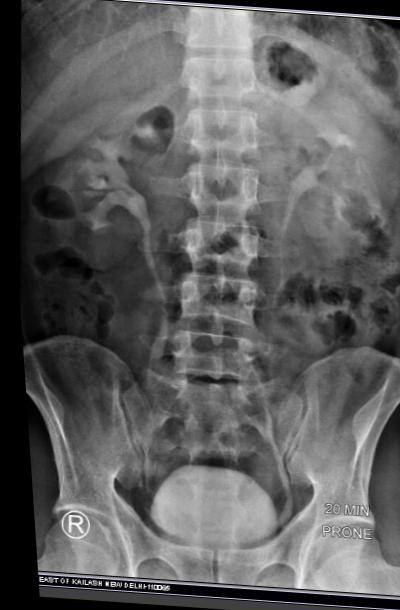bladder: (137, 464, 284, 572)
left kidney: (277, 80, 399, 289)
right kidney: (24, 79, 175, 278)
vertebrae: (180, 99, 265, 162)
